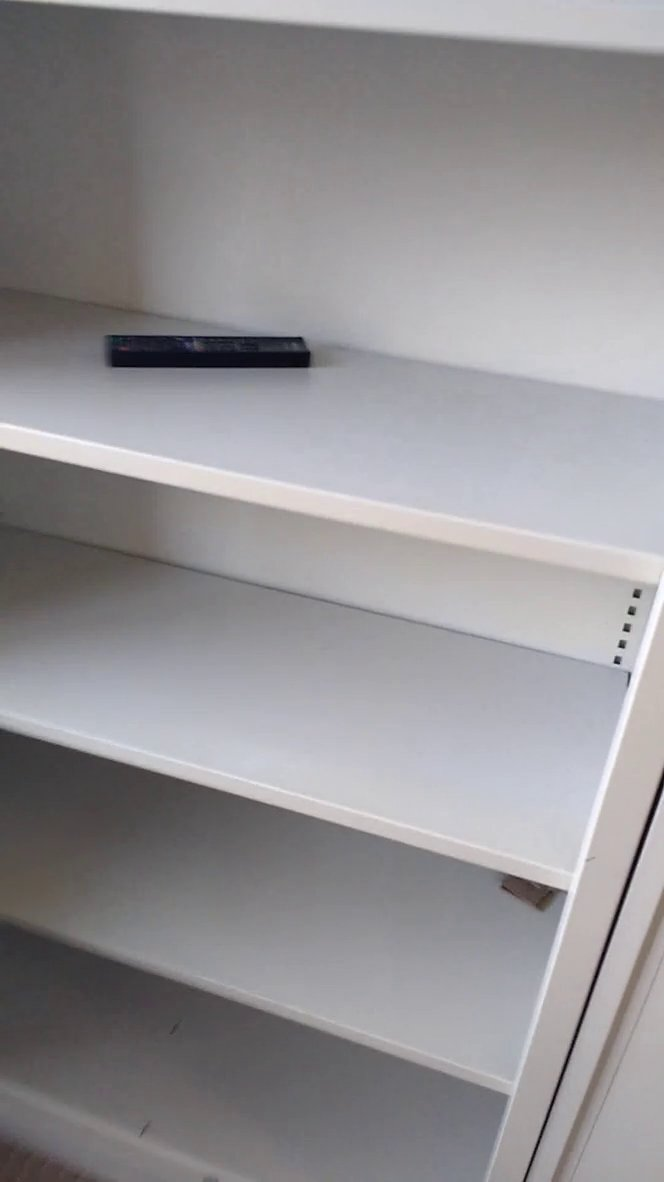remote: (91, 316, 319, 381)
